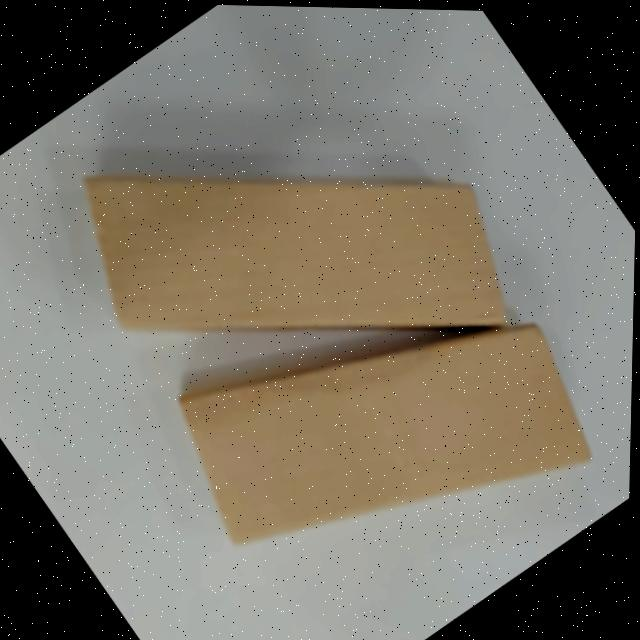Jenga: (33, 1, 555, 513), (143, 193, 629, 640)
